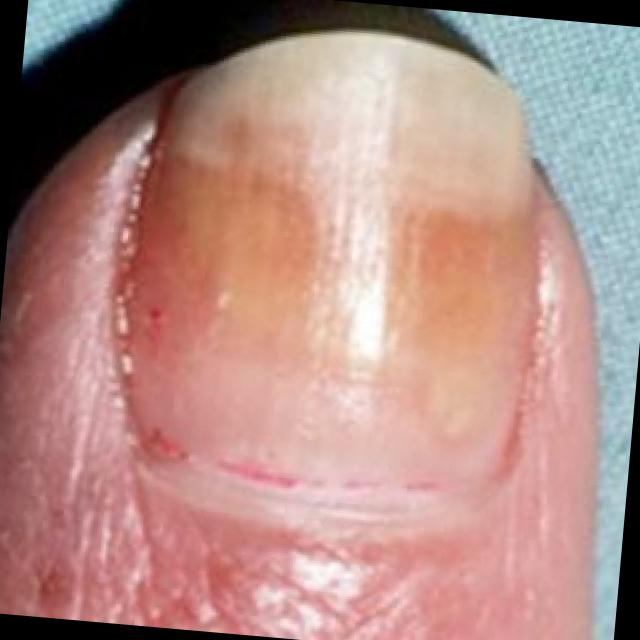Nail: (119, 28, 535, 517)
